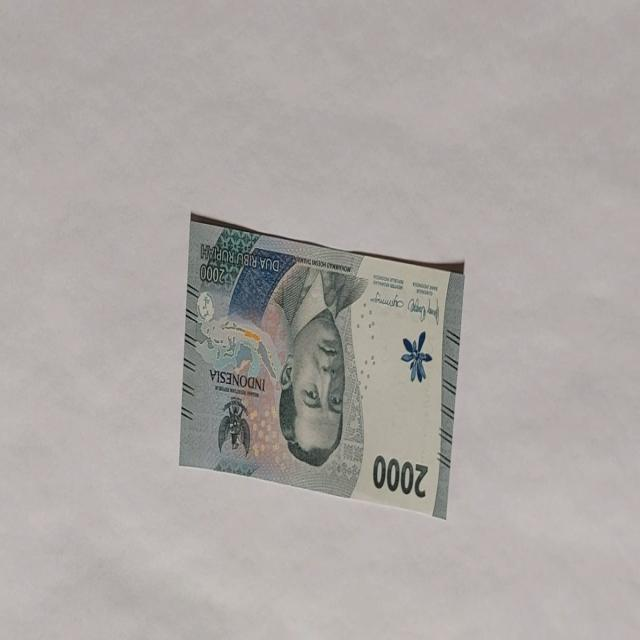dua ribu rupiah: (178, 211, 465, 521), (270, 264, 365, 472)
